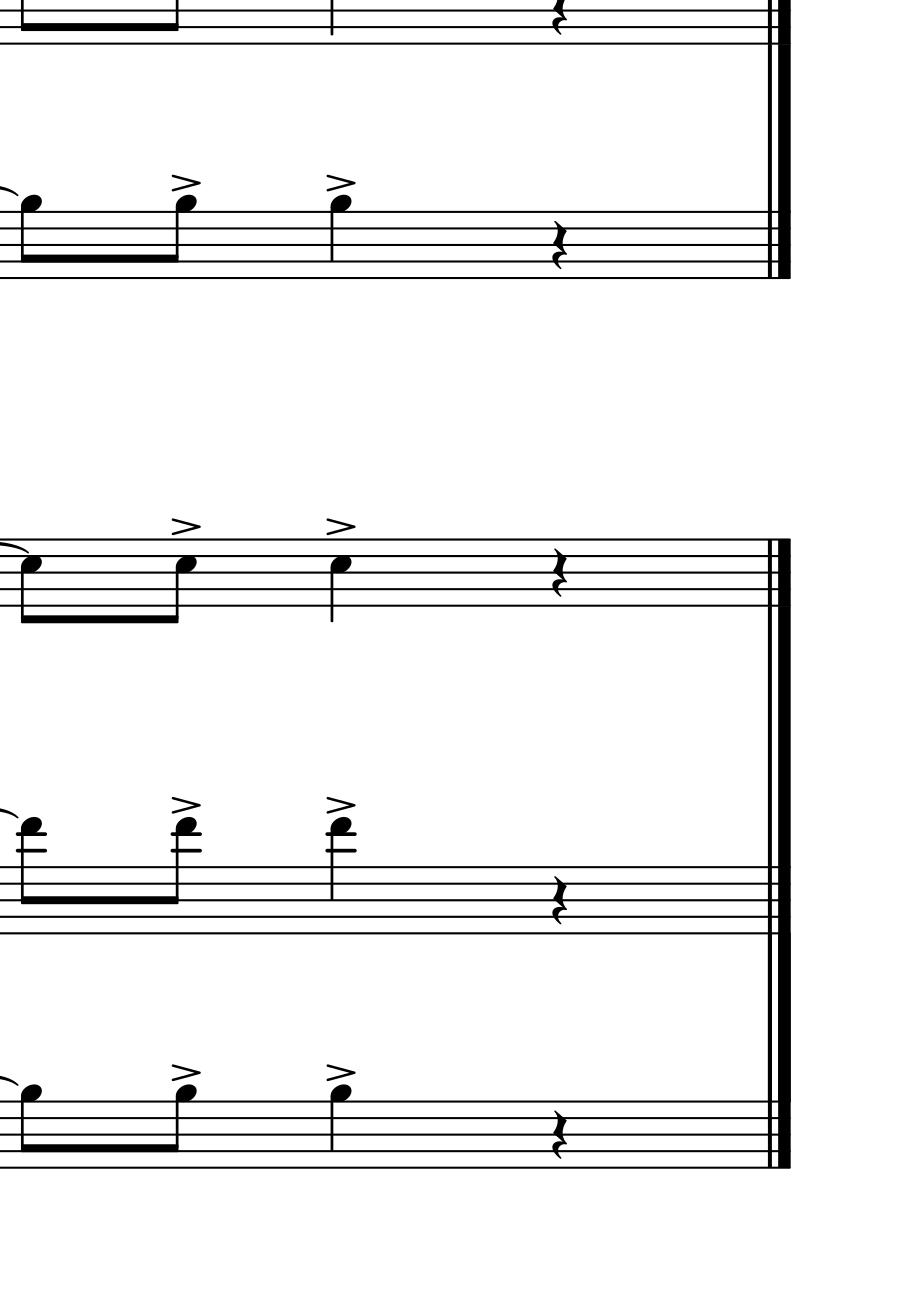4_13: (328, 815, 354, 938)
4_5: (327, 537, 352, 626)
4_9: (327, 1082, 353, 1171), (327, 193, 352, 282)
8_13: (165, 816, 198, 937), (16, 817, 45, 937)
8_5: (165, 537, 198, 626), (18, 537, 43, 625)
8_9: (164, 194, 198, 282), (165, 1083, 198, 1171), (17, 1083, 44, 1172), (17, 194, 44, 282)
Accent_above: (324, 516, 357, 537), (324, 794, 357, 815), (324, 1063, 358, 1083), (170, 1062, 202, 1083), (324, 172, 357, 192), (169, 173, 202, 193), (170, 795, 203, 815), (171, 516, 202, 537)
Final_barline: (760, 536, 793, 606), (760, 864, 792, 933), (761, 1099, 792, 1168), (760, 209, 791, 277)
Rests4: (548, 1109, 570, 1164), (548, 219, 570, 273), (549, 874, 570, 929), (549, 547, 570, 600)
